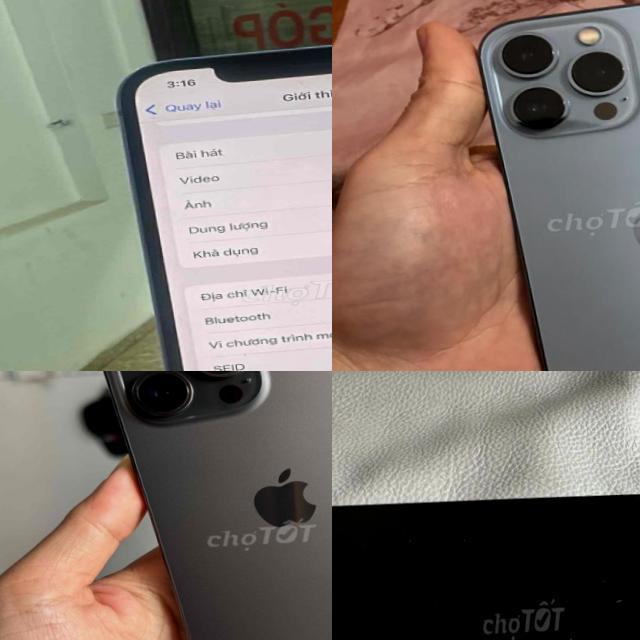gen_12_13: (114, 22, 332, 371), (475, 0, 640, 371)
gen_14: (332, 475, 640, 640)
gen_15: (77, 371, 332, 640)
scratch: (505, 627, 577, 640), (612, 590, 626, 616)
